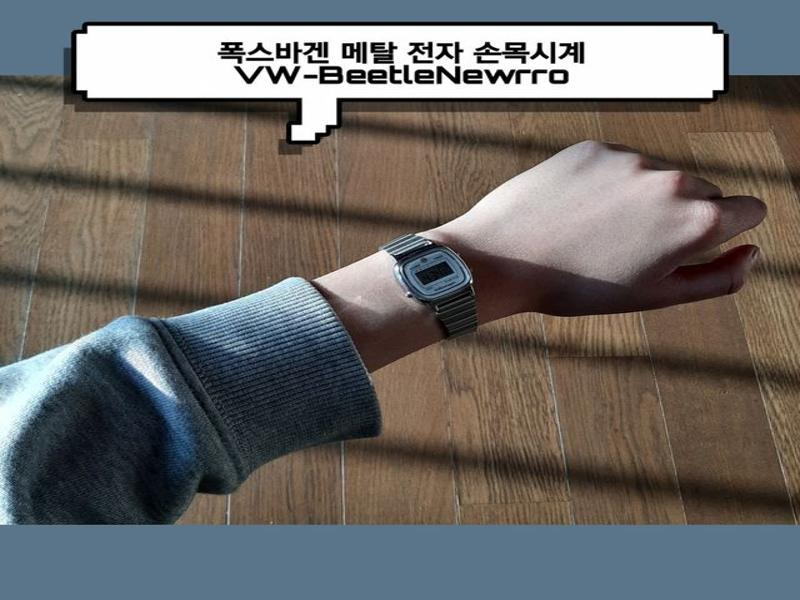watch: (377, 231, 480, 343)
